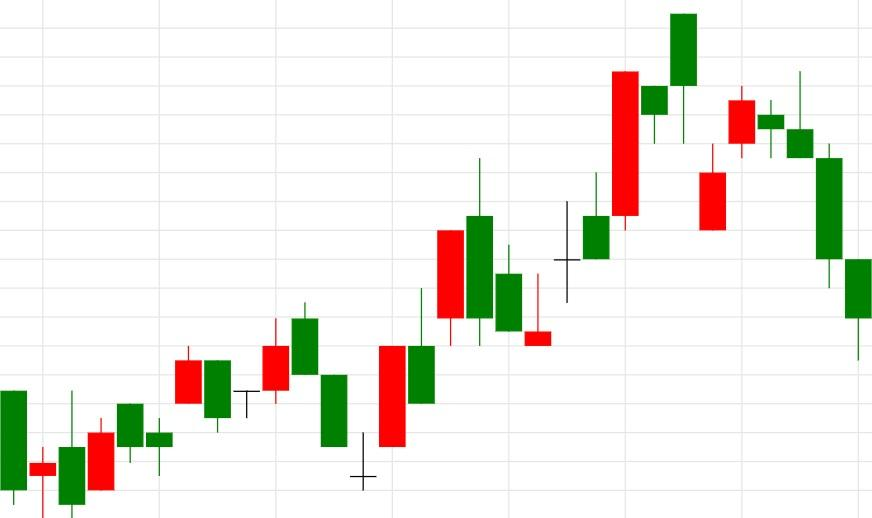bearish_engulfing_fall: (349, 158, 494, 491)
three_black_crows_fall: (698, 71, 843, 289)
